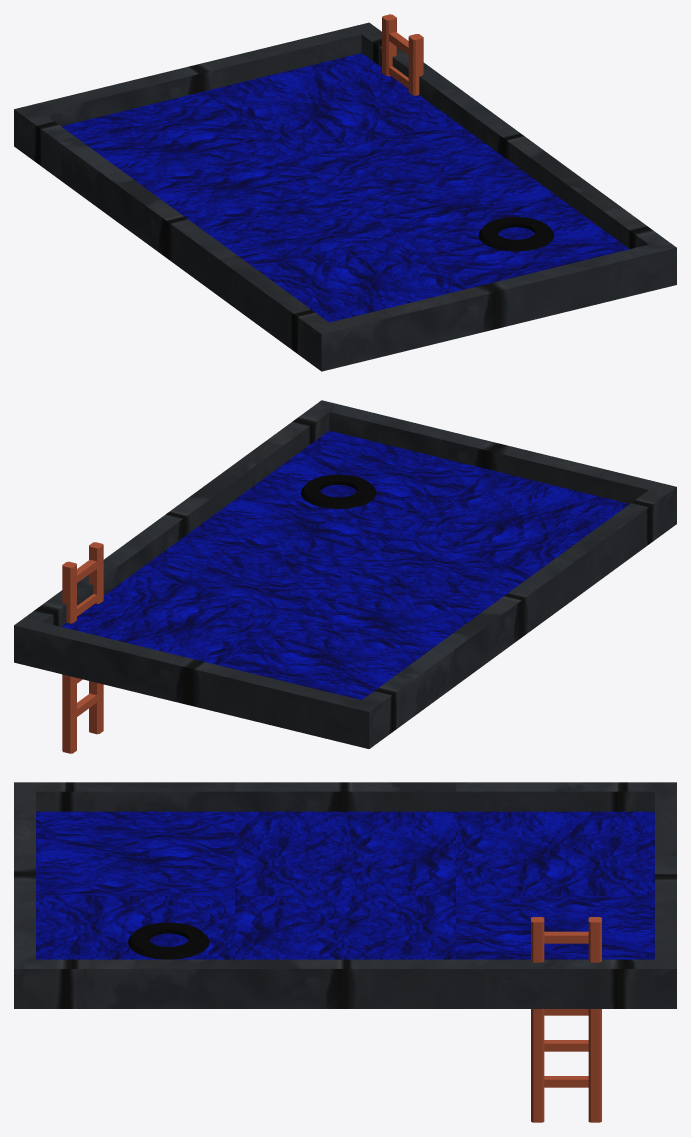
Rendered from pool.glb.
The picture shows the model from 3 angles, top to bottom: view 1: azimuth 30°, elevation 25°; view 2: azimuth 150°, elevation 25°; view 3: azimuth 270°, elevation 25°; orthographic projection. The views are drawn at different scales.
Parts seen in each view (by area): view 1: corner (×4), side (×2), detail_ladder, detail_tireEmergency; view 2: corner (×4), side (×2), detail_ladder, detail_tireEmergency; view 3: corner (×4), side (×2), detail_ladder, detail_tireEmergency.
Boxes of the visible parts, bbox=[...] form: corner (×4): bbox=[14, 22, 676, 371]; side (×2): bbox=[116, 97, 573, 295]; detail_ladder: bbox=[382, 14, 423, 95]; detail_tireEmergency: bbox=[478, 217, 554, 251]; corner (×4): bbox=[14, 400, 676, 748]; side (×2): bbox=[117, 475, 574, 673]; detail_ladder: bbox=[62, 542, 103, 753]; detail_tireEmergency: bbox=[301, 474, 376, 508]; corner (×4): bbox=[14, 782, 676, 1008]; side (×2): bbox=[235, 782, 455, 1008]; detail_ladder: bbox=[531, 917, 601, 1122]; detail_tireEmergency: bbox=[128, 922, 209, 959].
Size of the model in its own units: 0.4 by 0.2 by 0.6.
Materials: 15 (12 with a texture image).
